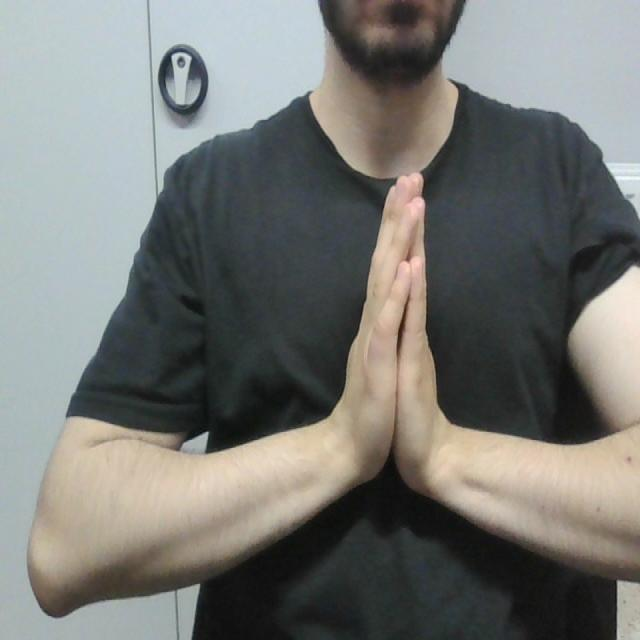Ozur-Dilemek: (323, 156, 460, 513)
